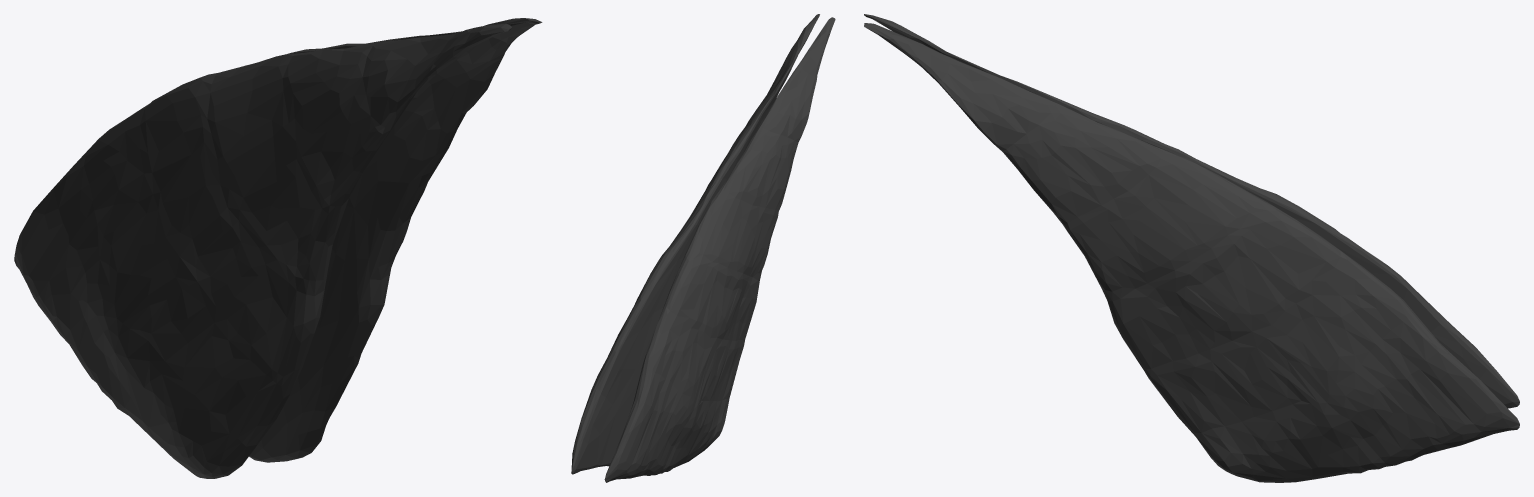
Rendered from m_semispinalis_capitis.glb.
3 renders of one model, left to right at view 1: azimuth 30°, elevation 25°; view 2: azimuth 150°, elevation 25°; view 3: azimuth 270°, elevation 25°, orthographic. The views are drawn at different scales.
Visible parts, largest first — view 1: m_semispinalis_capitis; view 2: m_semispinalis_capitis; view 3: m_semispinalis_capitis.
Boxes of the visible parts, x1,y1,x2,y2 form: m_semispinalis_capitis: (14,18,542,478); m_semispinalis_capitis: (571,14,835,482); m_semispinalis_capitis: (864,14,1519,482).
Bounding box in the file's own units: 0.00188 × 0.00816 × 0.0107.
1 material, 1 textured.
